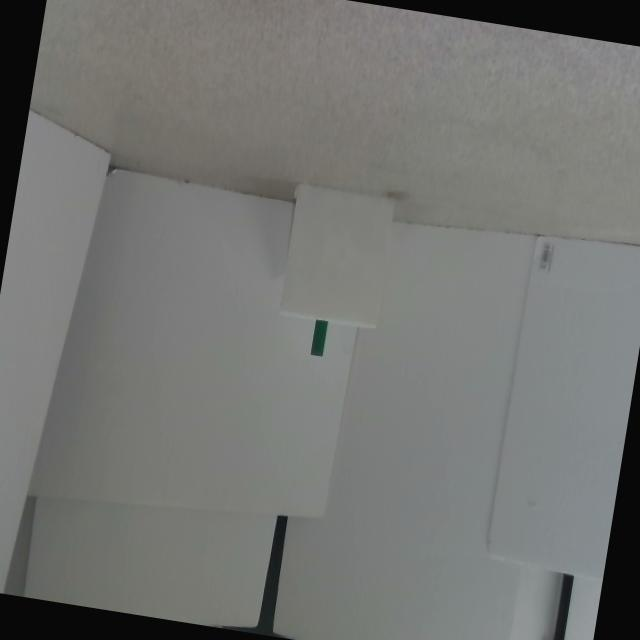green_cylinder: (310, 319, 328, 357)
